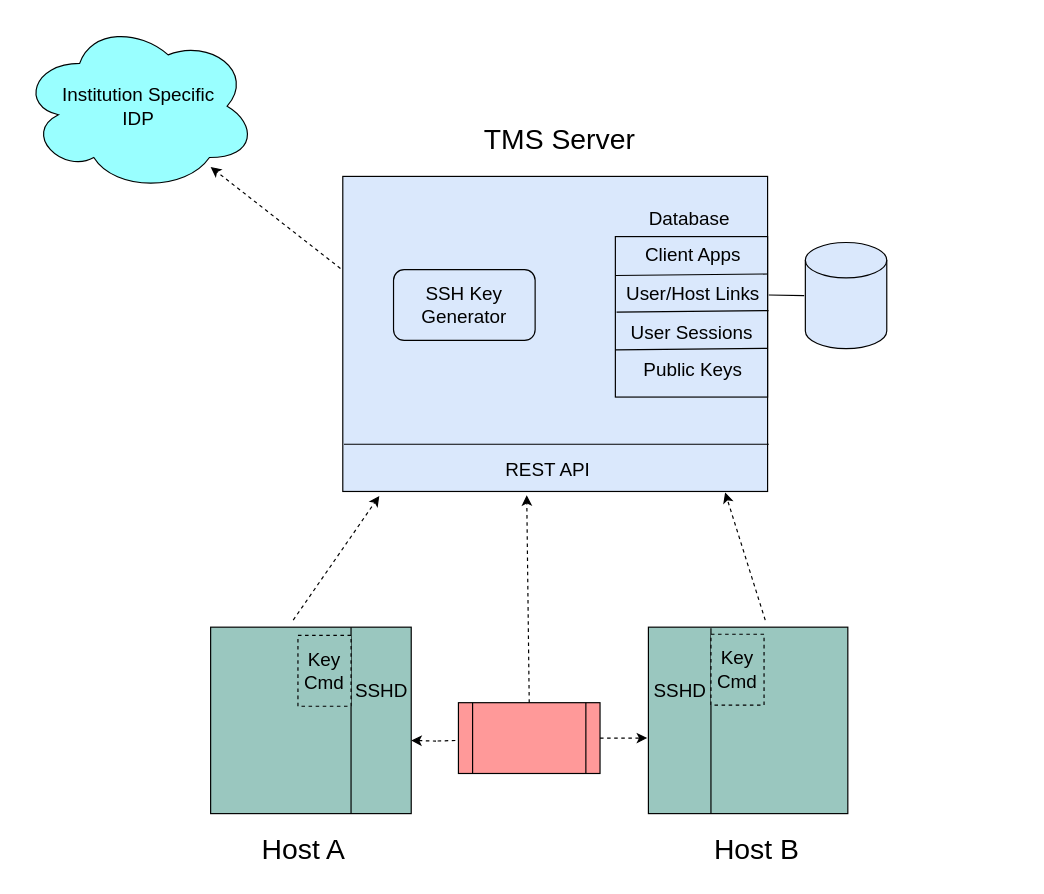
This 1044x894 diagram has some shape labels left out. Each missing label, with the centre of its shape:
Applications (ex: Tapis): the point at 528,737
DB Storage: the point at 845,295
